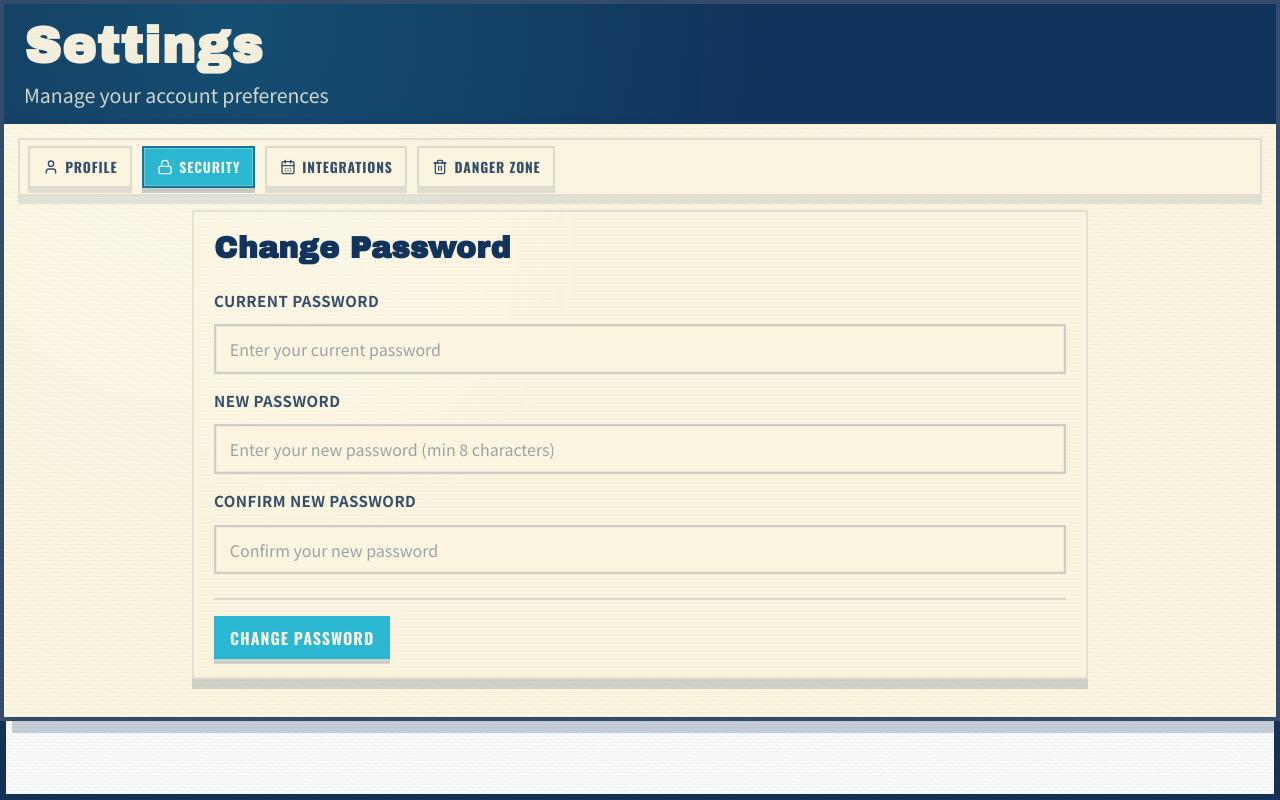
SettingsPage › Security Tab › should validate password length
Type "current" into the password field with test id "settings-input-current-password" at (640, 349), box [214,324,1066,374]
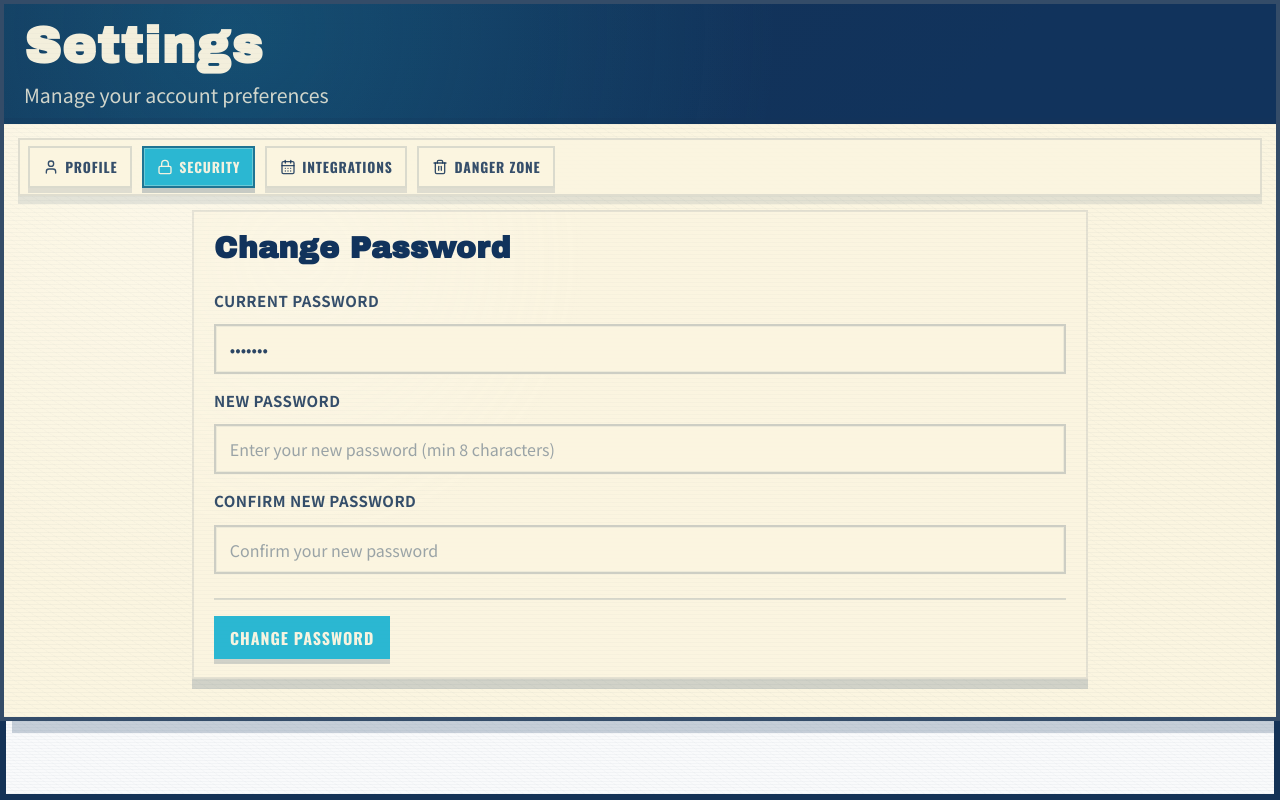
Type "short" into the password field with test id "settings-input-new-password" at (640, 449), box [214,424,1066,474]
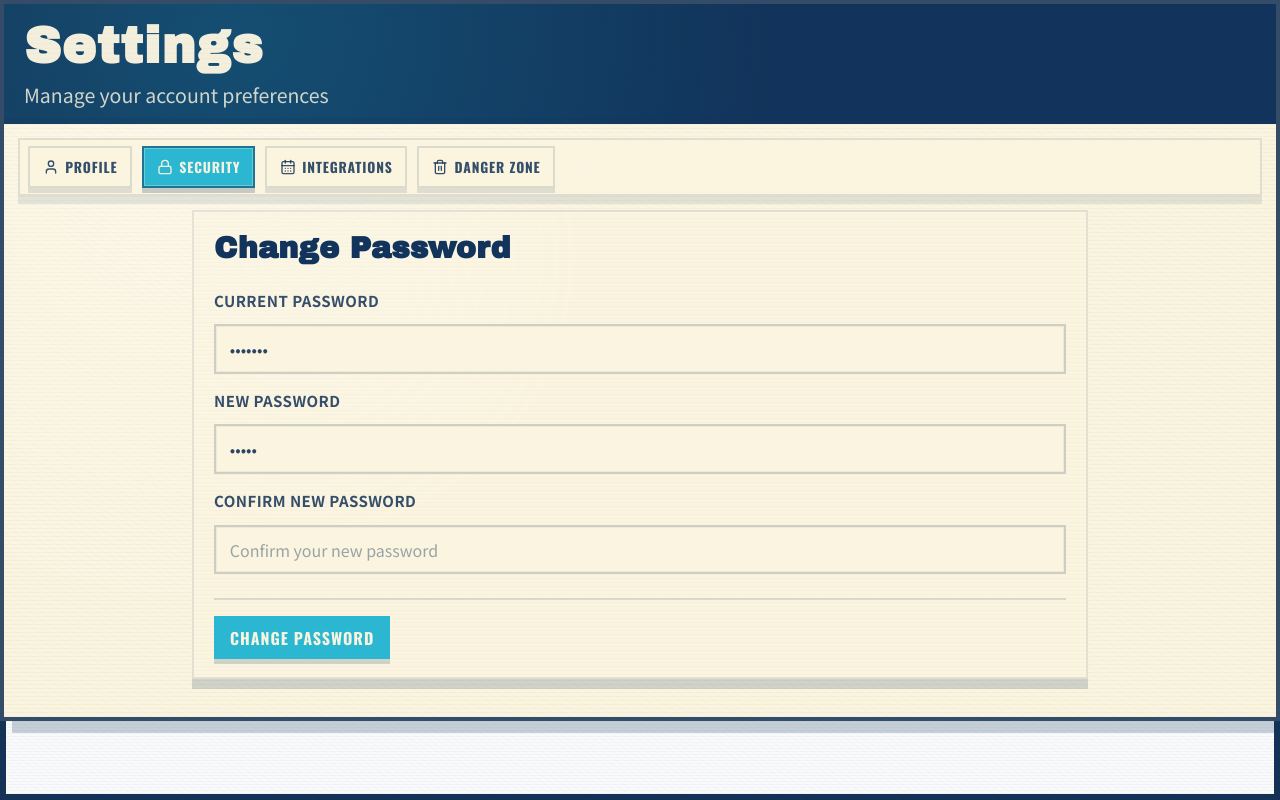
Type "short" into the password field with test id "settings-input-confirm-password" at (640, 550), box [214,525,1066,574]
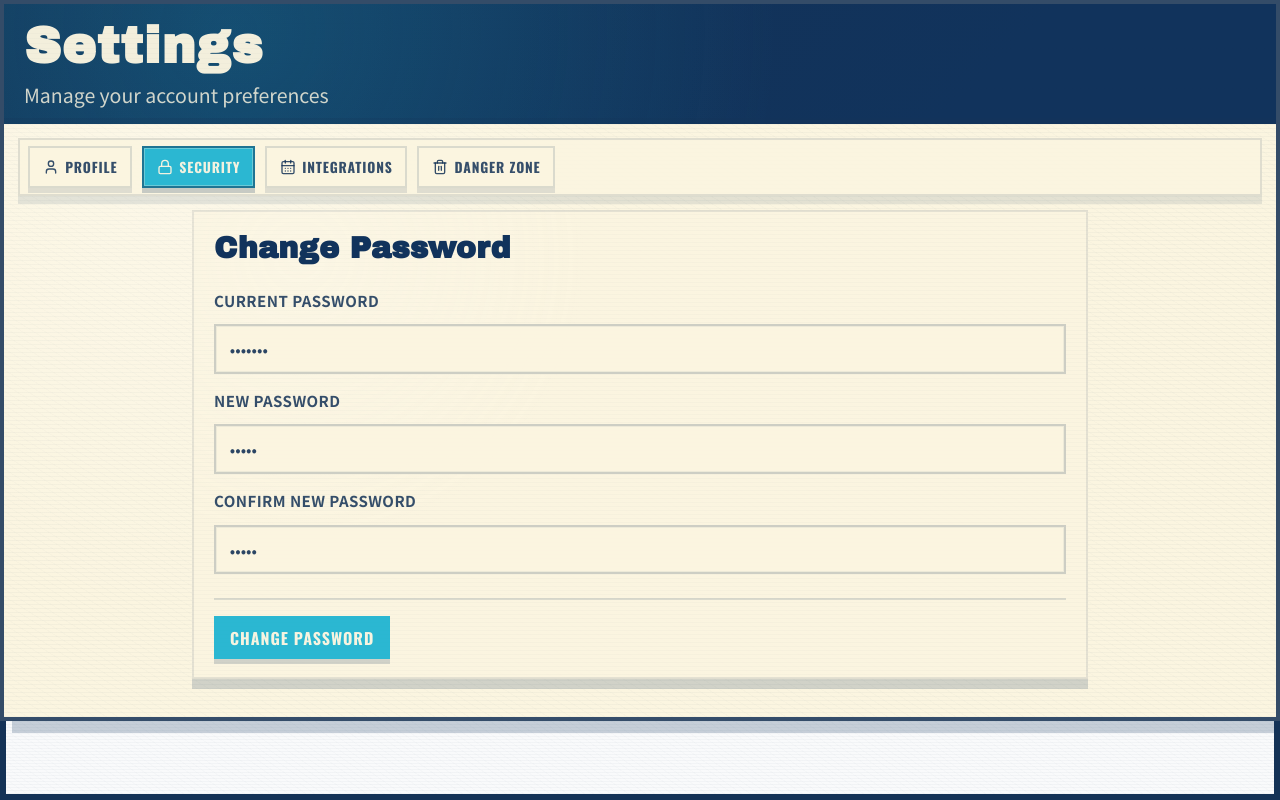
Click the button with test id "settings-button-change-password" at (302, 638), box [214,616,390,659]
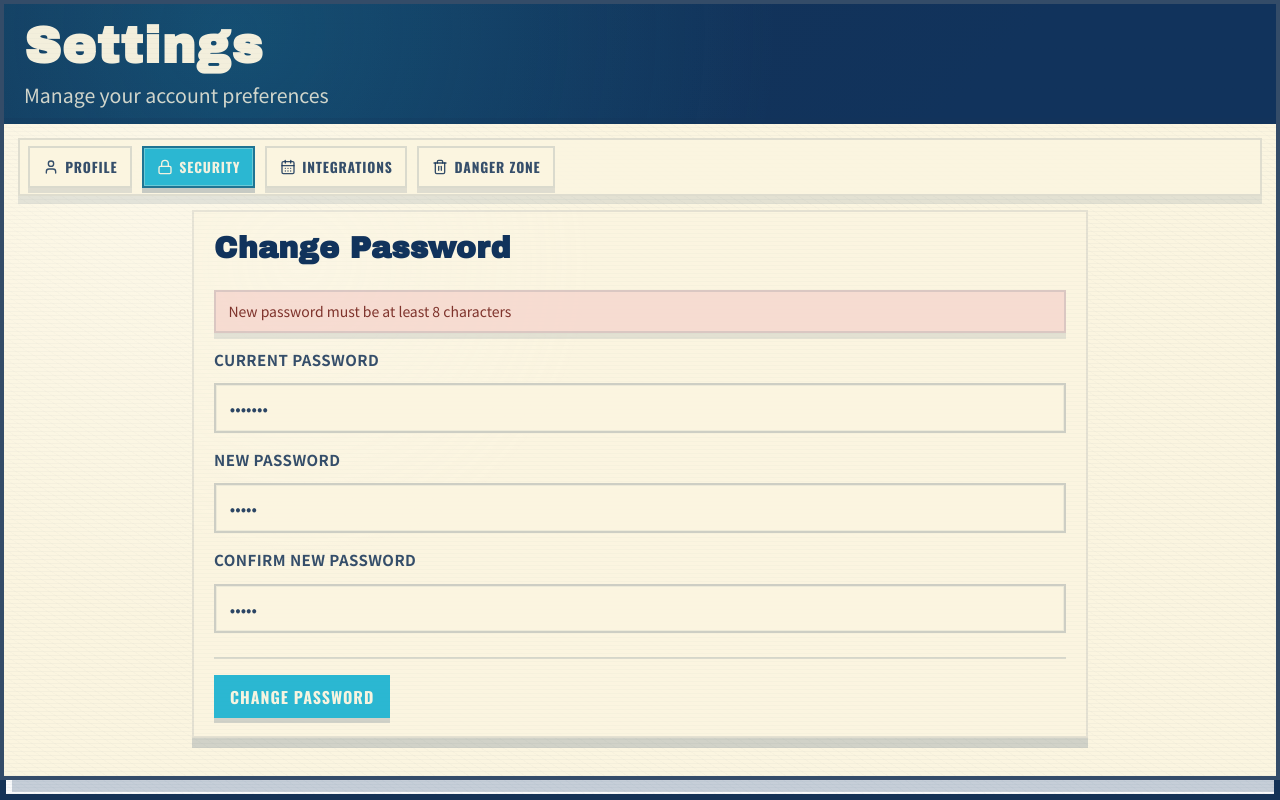
Now the text "New password must be at least 8 characters" is shown, box [228,301,511,321]
